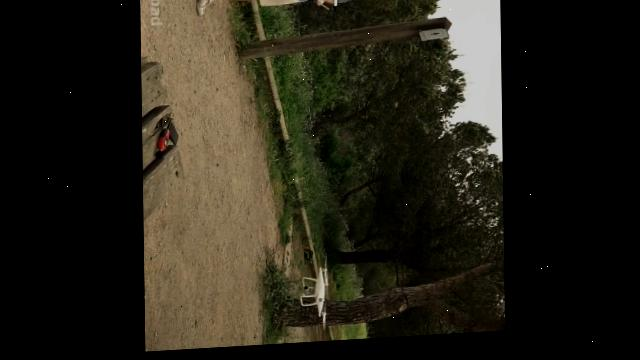drone: (299, 258, 329, 335)
